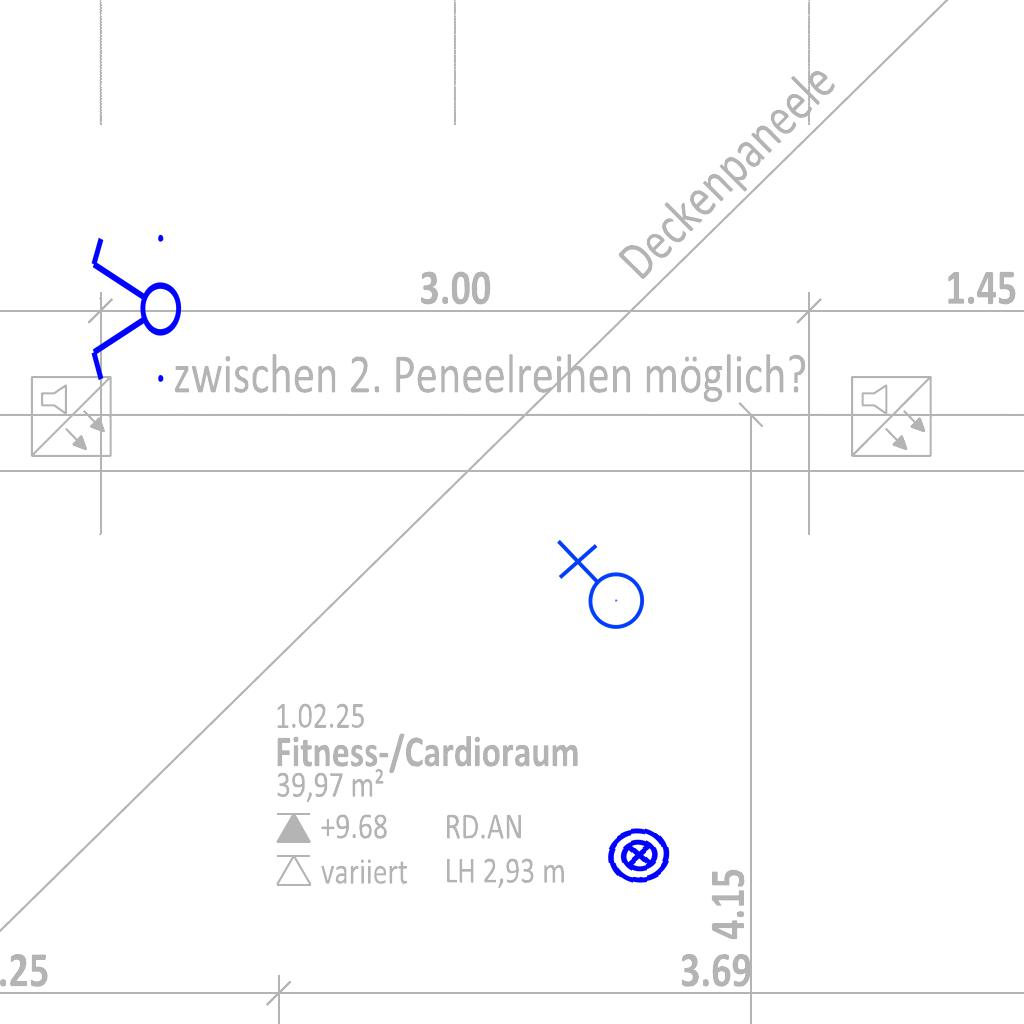Elektroanschluss_allgemein_230V_Geraeteanschlussdose_230V: (552, 539, 646, 638)
Serienschalter: (87, 226, 183, 394)
Taster_beleuchtet: (603, 819, 675, 891)
